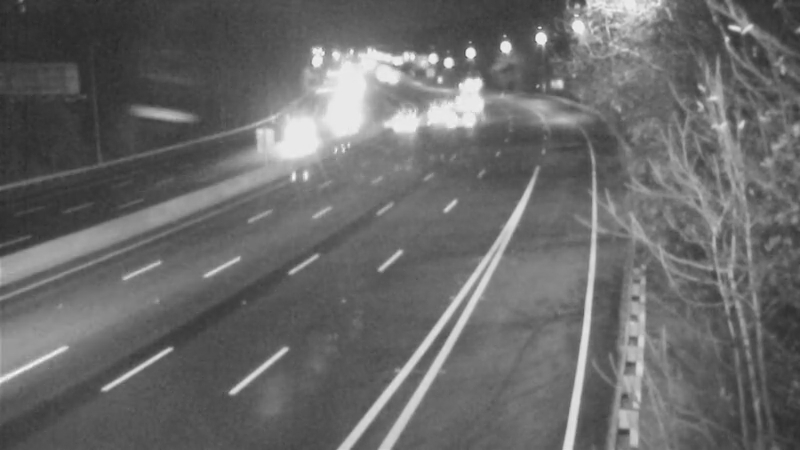vehicle: (447, 68, 497, 118), (410, 84, 460, 134), (435, 95, 485, 145), (380, 93, 430, 143), (272, 106, 322, 156)
